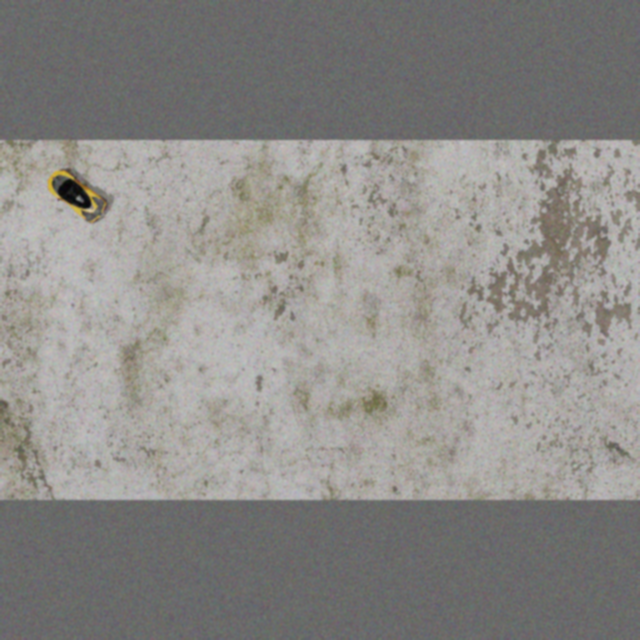car: (36, 161, 114, 228)
